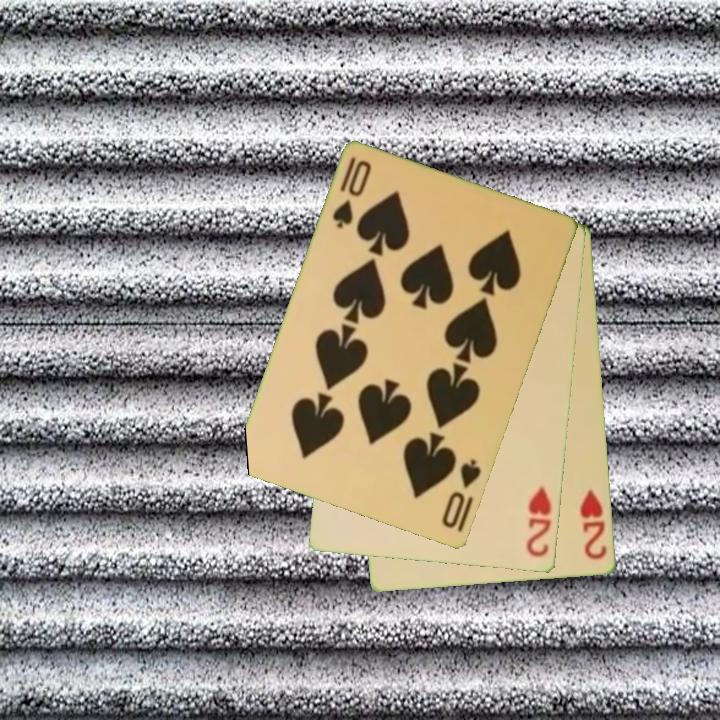10s: (329, 153, 375, 232), (438, 456, 485, 532)
2h: (576, 486, 610, 563), (523, 483, 555, 561)
